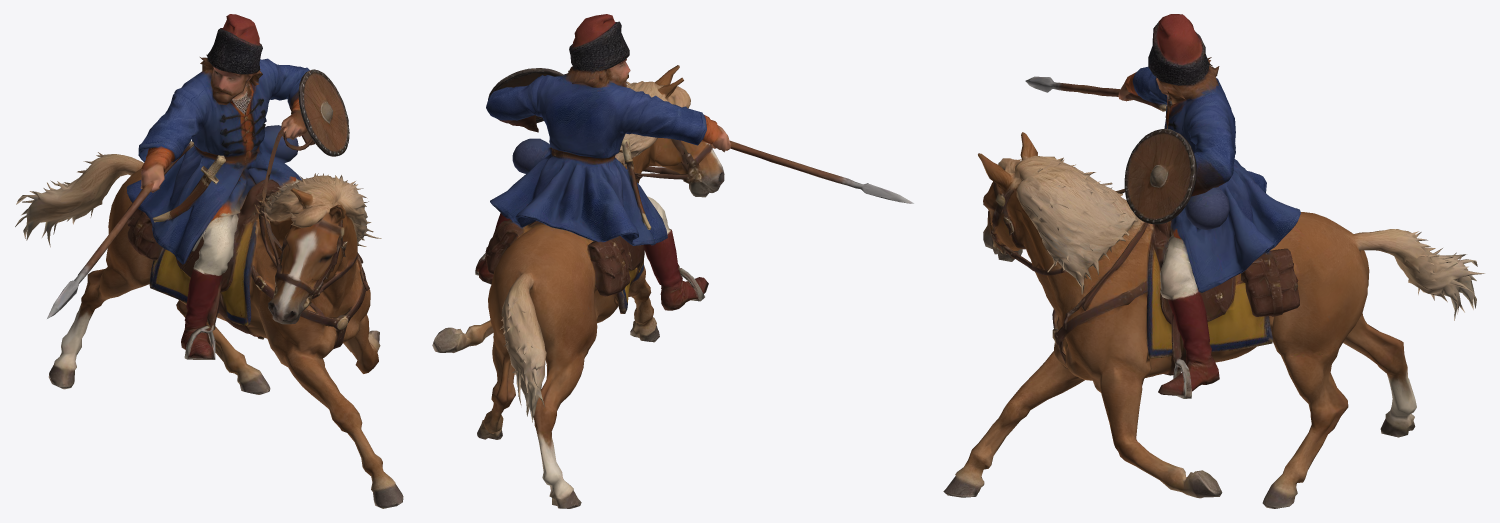
Rendered from bogdanli-mizrakli-suvari-1550-1600-tripo-v1.glb.
3 renders of one model, left to right at view 1: azimuth 30°, elevation 25°; view 2: azimuth 150°, elevation 25°; view 3: azimuth 270°, elevation 25°, orthographic. The views are drawn at different scales.
Parts seen in each view (by area): view 1: tripo_node_6cdcbfd5-5f40-4f3a-9718-a7fa02090e2e; view 2: tripo_node_6cdcbfd5-5f40-4f3a-9718-a7fa02090e2e; view 3: tripo_node_6cdcbfd5-5f40-4f3a-9718-a7fa02090e2e.
Part boxes in pixels (bbox=[...]): tripo_node_6cdcbfd5-5f40-4f3a-9718-a7fa02090e2e: bbox=[15, 14, 403, 508]; tripo_node_6cdcbfd5-5f40-4f3a-9718-a7fa02090e2e: bbox=[432, 14, 913, 508]; tripo_node_6cdcbfd5-5f40-4f3a-9718-a7fa02090e2e: bbox=[943, 14, 1484, 508].
Size of the model in its own units: 0.9479 by 0.9235 by 1.
1 material, 1 textured.
